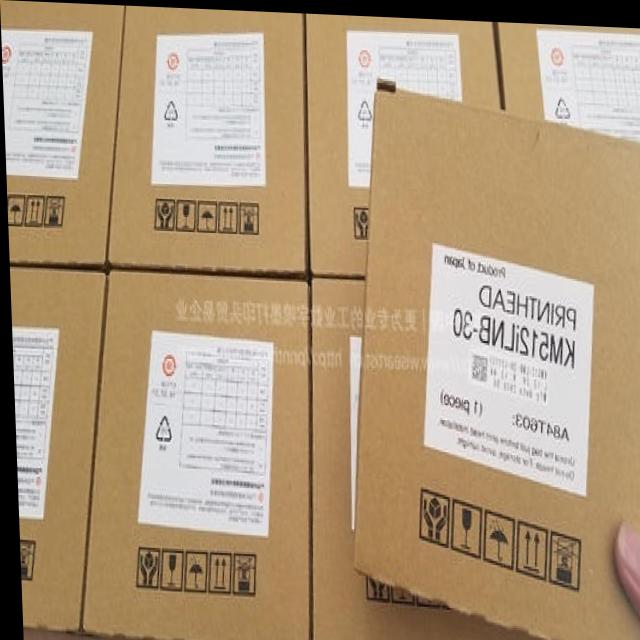box: (351, 82, 640, 640), (306, 275, 546, 640), (77, 269, 310, 640), (103, 11, 308, 273), (305, 16, 506, 273), (9, 268, 102, 638), (1, 0, 124, 268), (493, 22, 640, 134)
